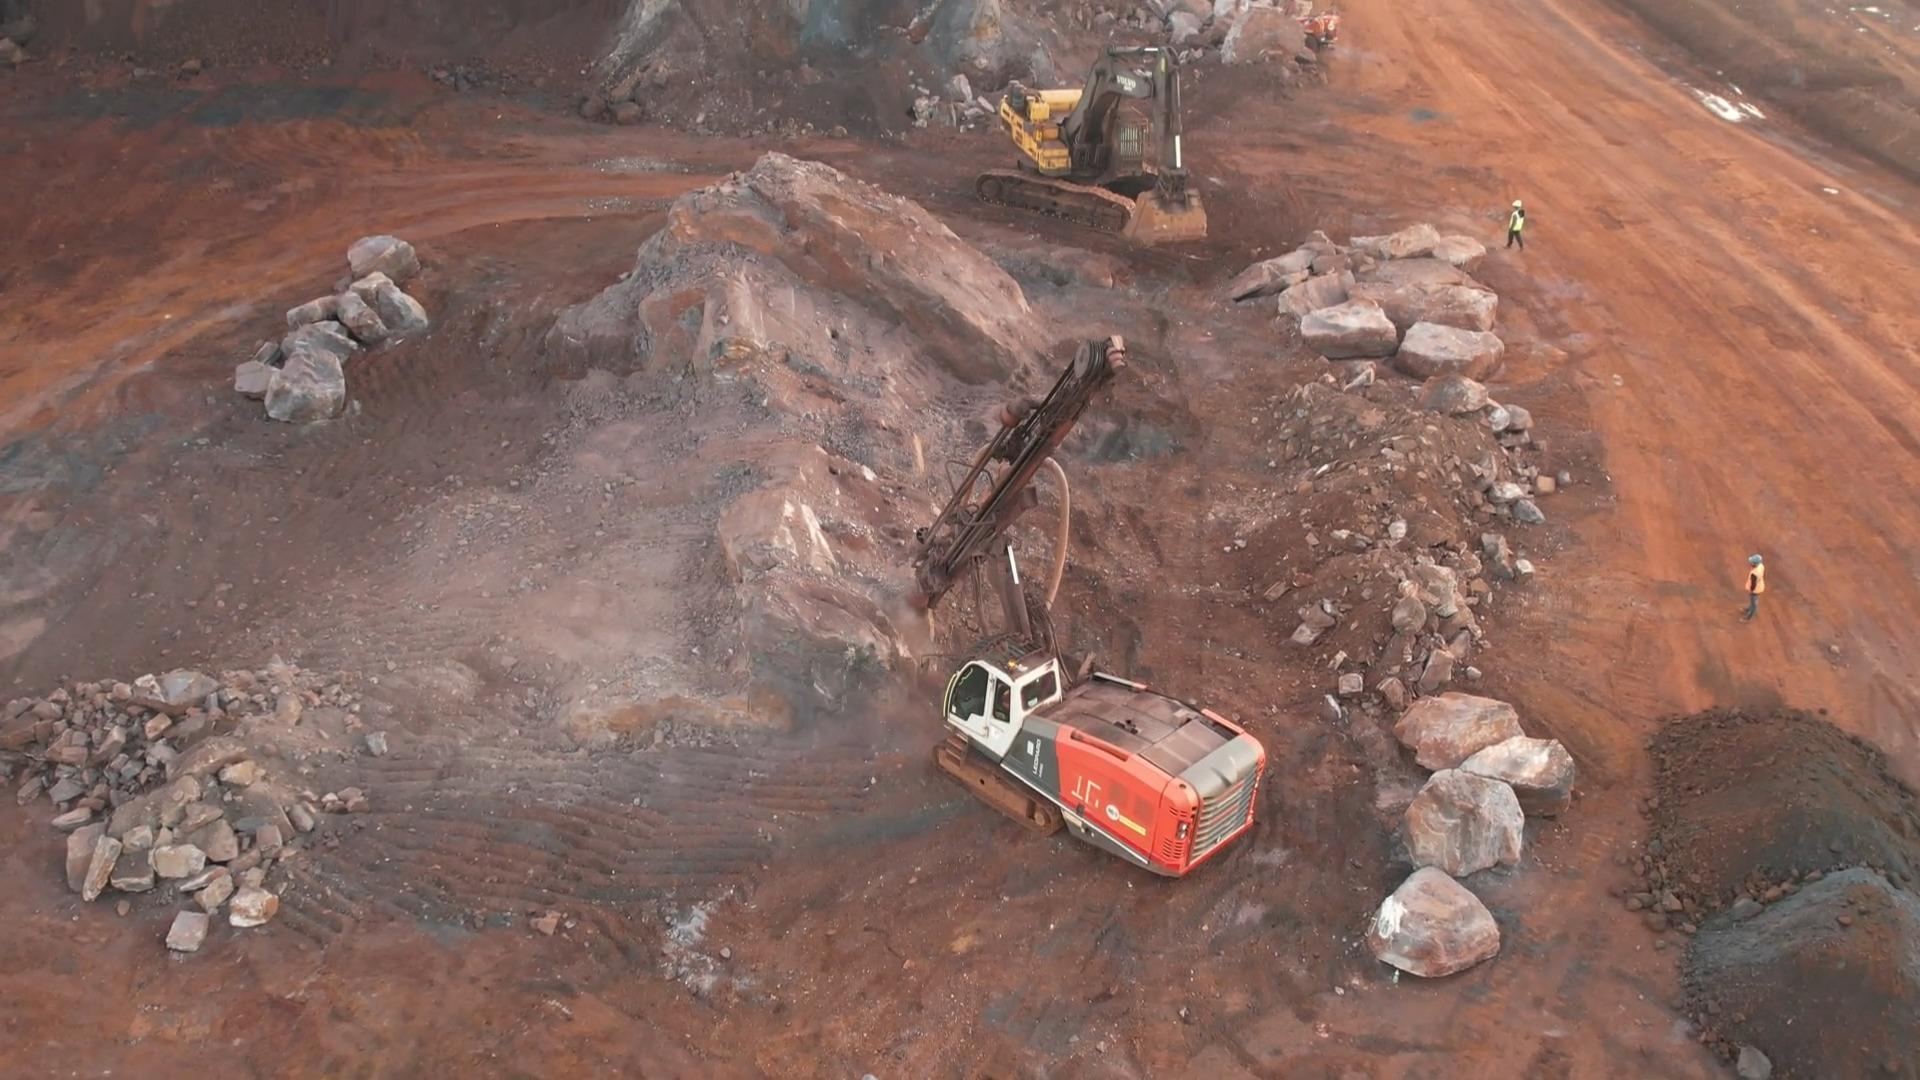excavator: (997, 53, 1213, 249)
